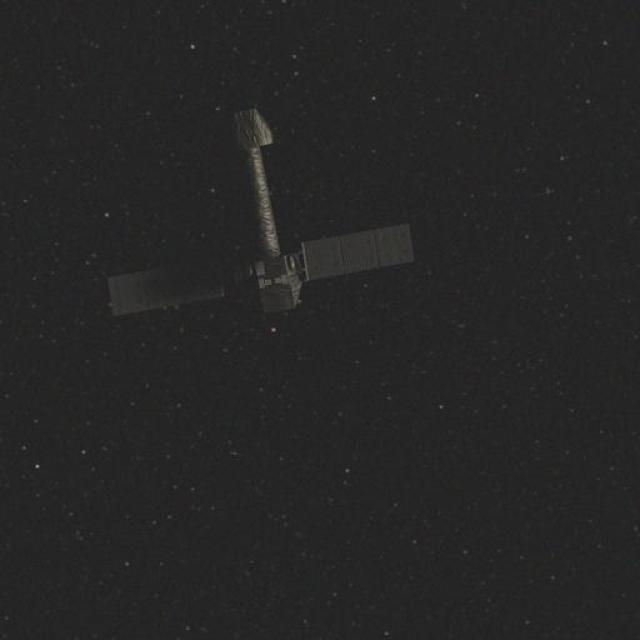xmm_newton: (114, 100, 410, 326)
